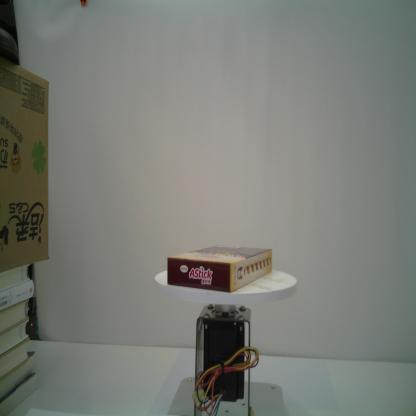Dessert: (167, 244, 272, 293)
